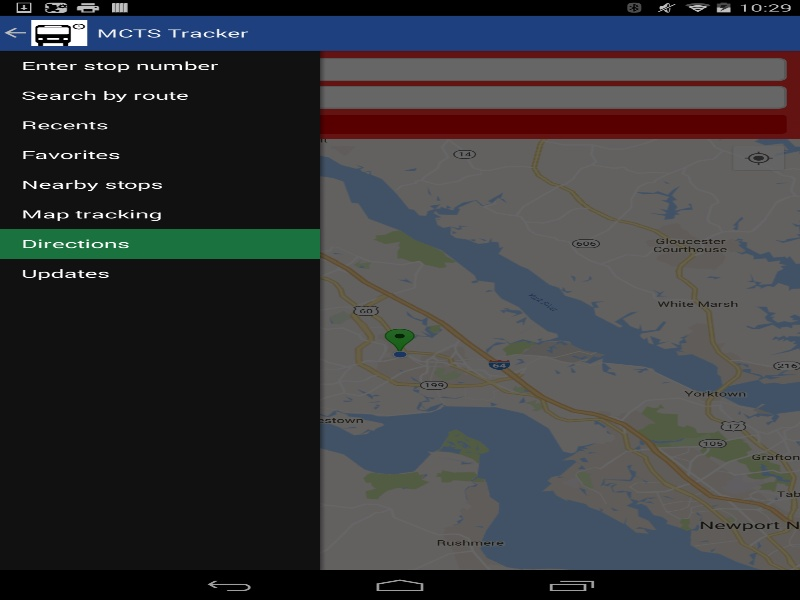Button: (13, 115, 786, 133)
Input: (12, 85, 786, 108), (12, 58, 786, 80)
